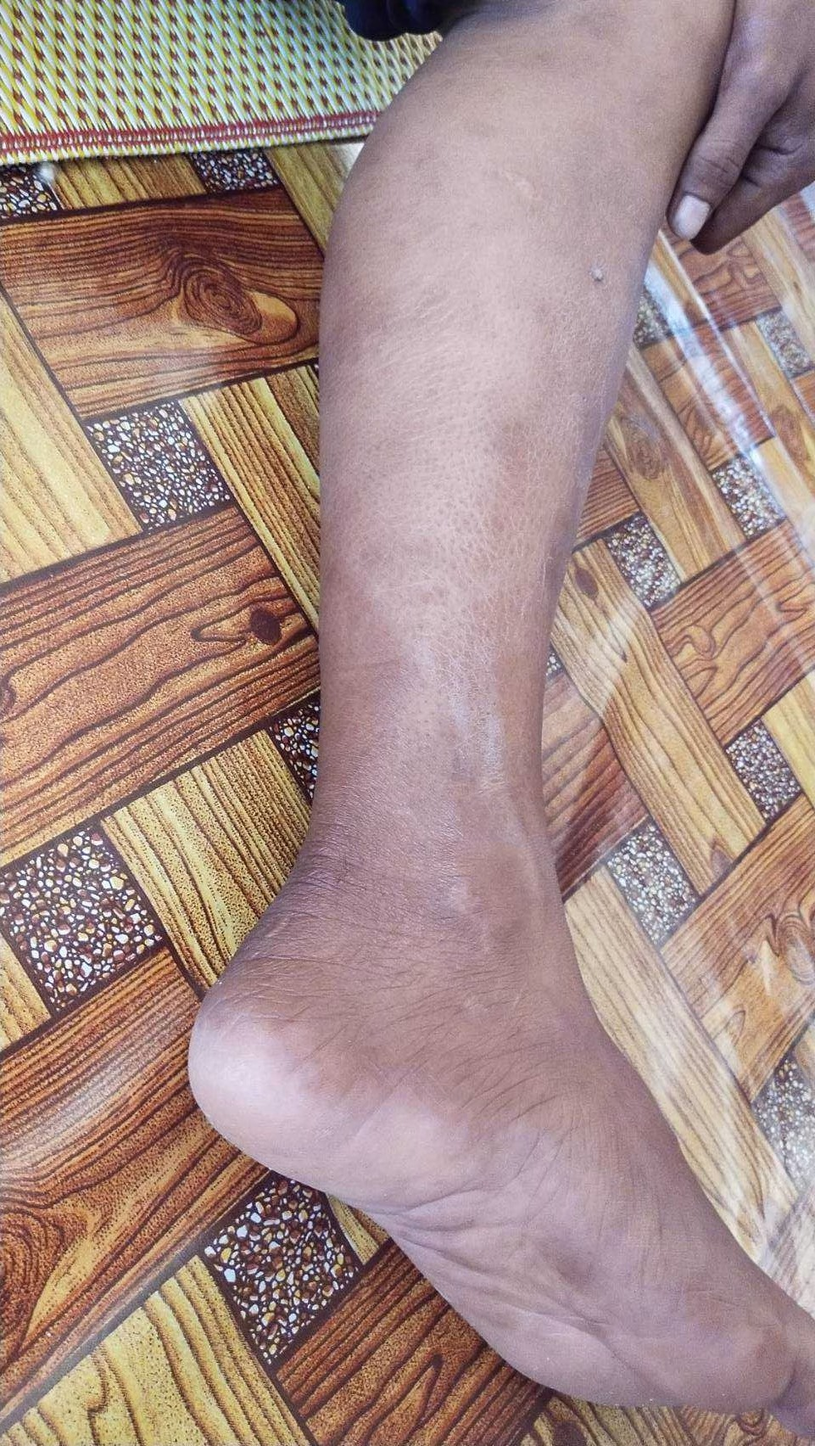Leprosy: (341, 176, 539, 860), (343, 171, 636, 394), (321, 395, 601, 577)
